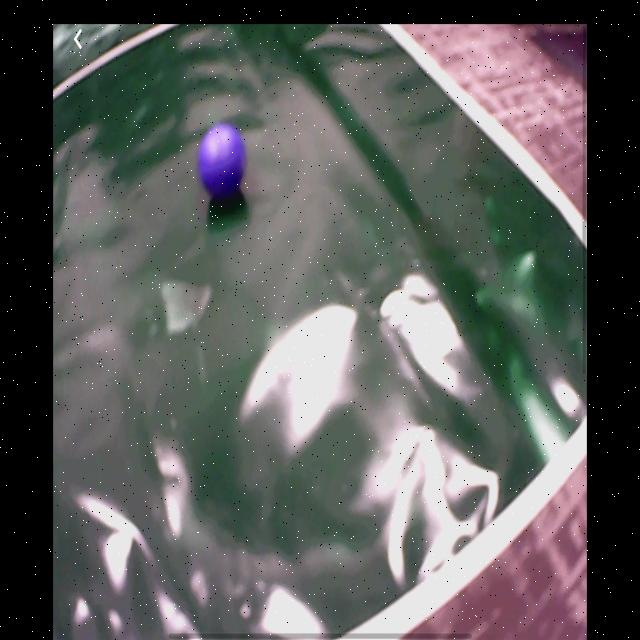ball: (197, 123, 246, 201)
